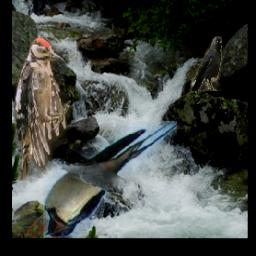Crow: (191, 37, 223, 92)
Swallow: (44, 122, 178, 238)
Woodpecker: (14, 37, 71, 181)
